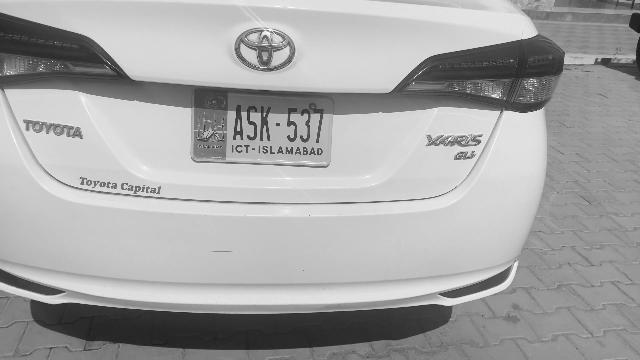Number: (228, 100, 326, 148)
